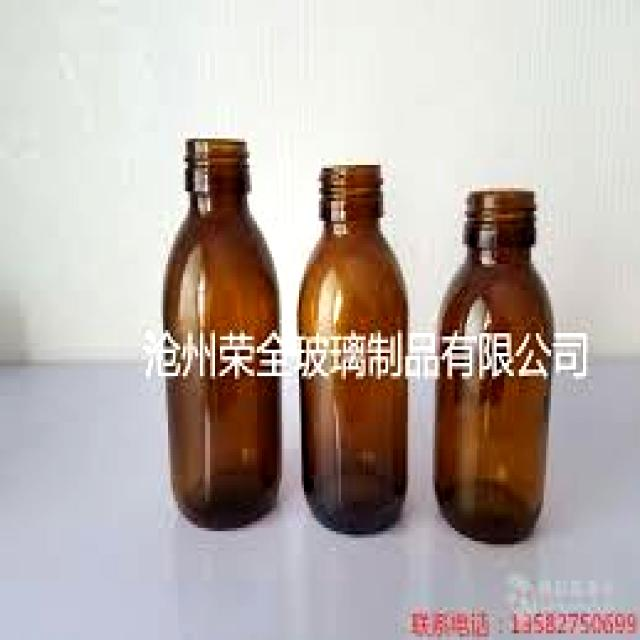Glass: (161, 134, 287, 537), (429, 186, 555, 552), (296, 157, 412, 541)
